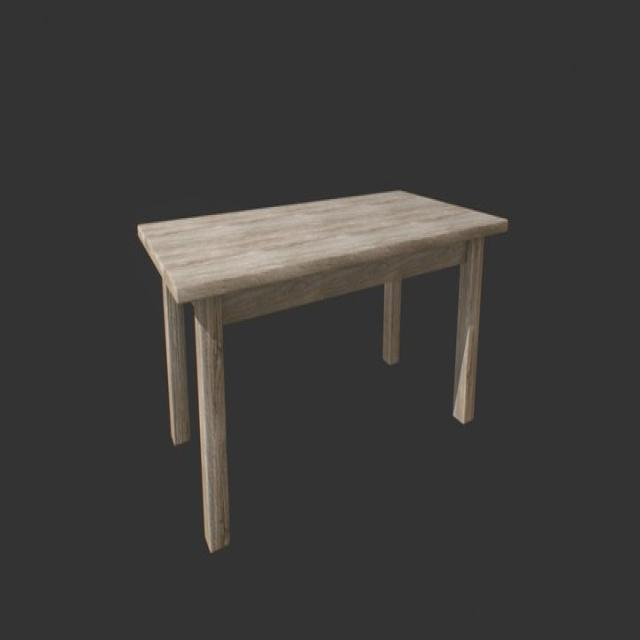table: (140, 184, 508, 551)
